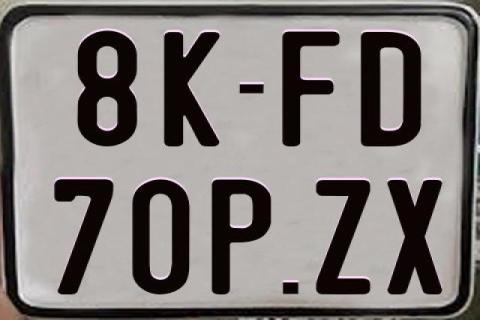0: (74, 30, 138, 150), (51, 177, 115, 292), (131, 177, 189, 293)
D: (359, 32, 419, 149)
F: (281, 29, 341, 144)
K: (163, 31, 219, 147)
P: (212, 180, 274, 298)
X: (386, 180, 447, 294)
Z: (314, 180, 368, 298)
